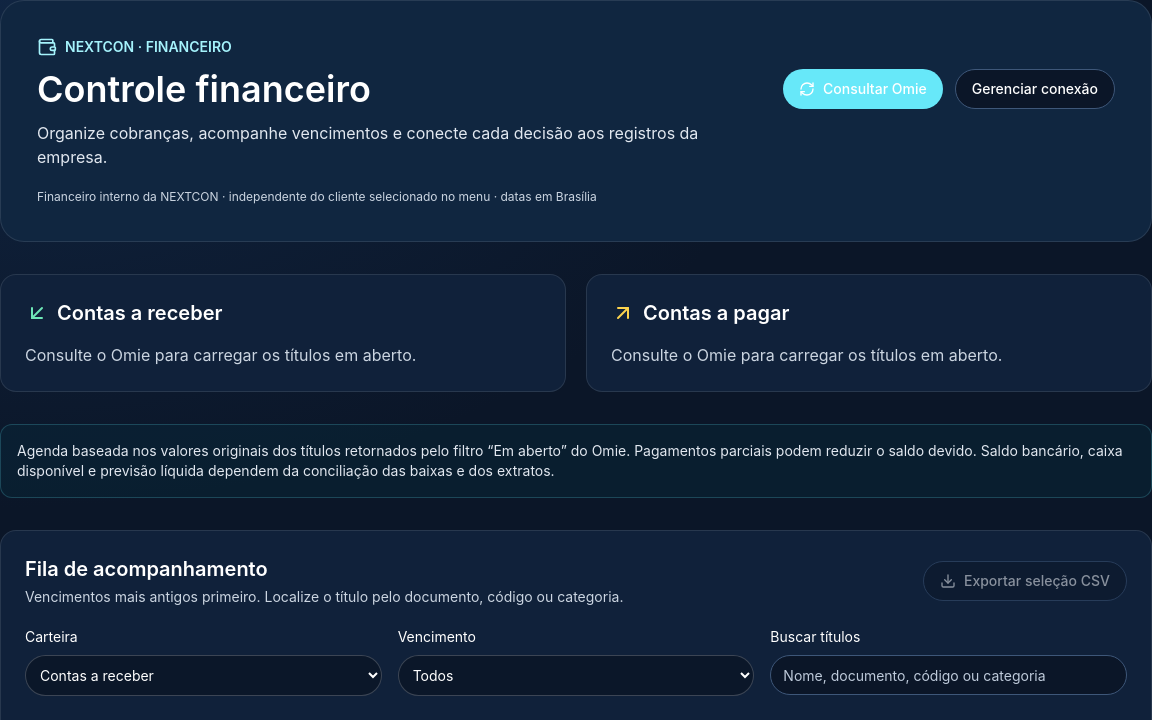
central financeira › exibe títulos sem fingir que o valor original é saldo disponível
The image size is (1152, 720).
Click the button "Consultar Omie".
click(863, 89)  # box top-left (783, 69), bottom-right (943, 109)
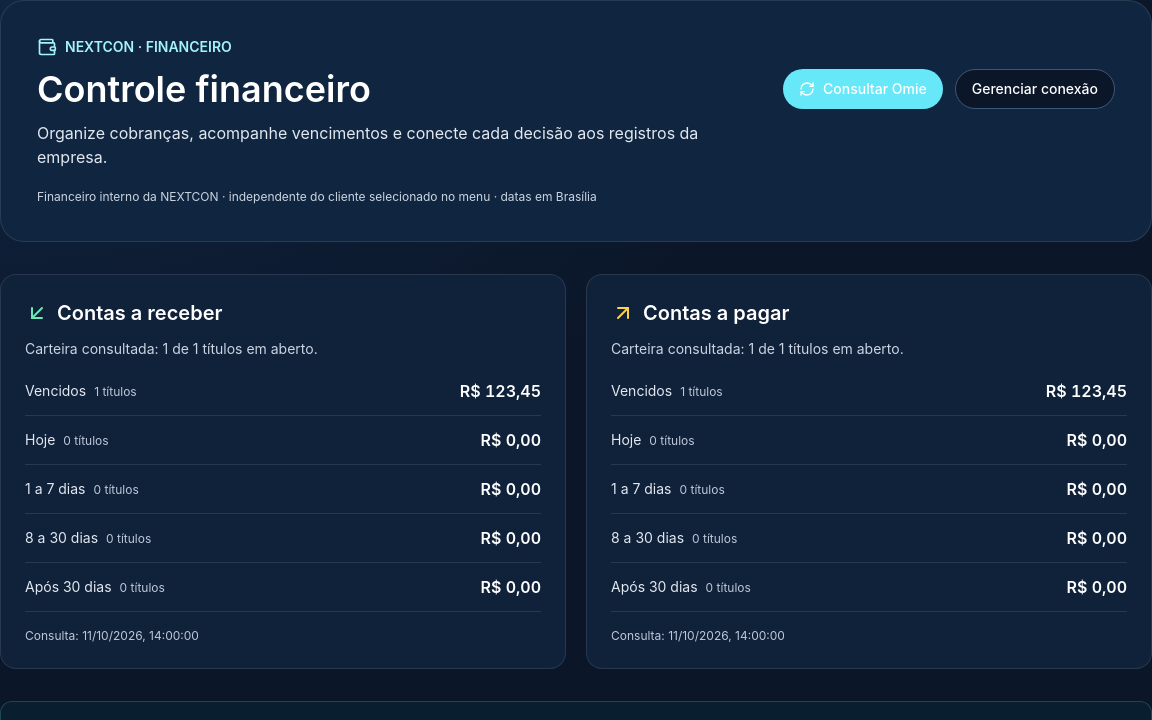
Expected: the text "123,45" is shown, top-left (460, 381), bottom-right (541, 401)
